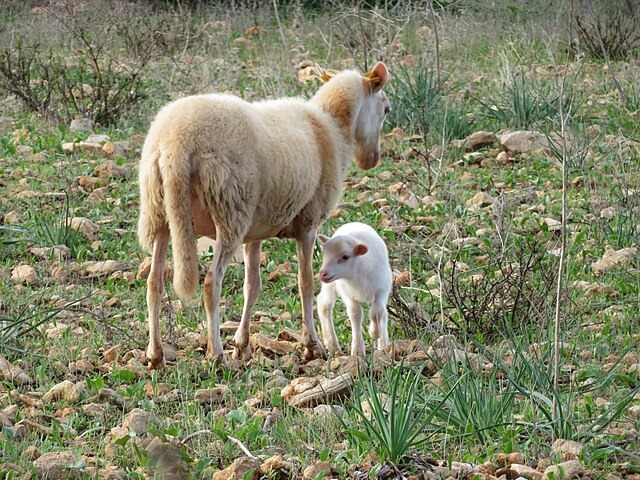standing: (131, 65, 394, 355), (320, 221, 396, 354)
